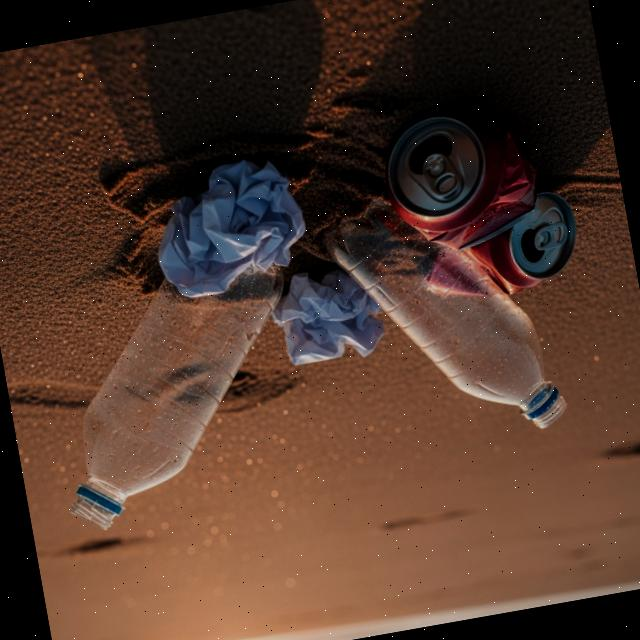aluminum: (374, 94, 588, 316)
paper: (144, 147, 316, 306), (266, 259, 396, 373)
plastic: (32, 245, 326, 536), (318, 168, 566, 464)
